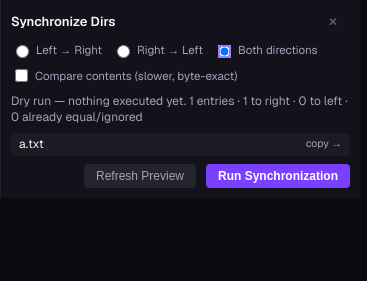
it: SyncPanel › direction radios regenerate the preview; stale banner shows
Click the radio button labelled "Right → Left": (124, 52) [117,45,130,58]
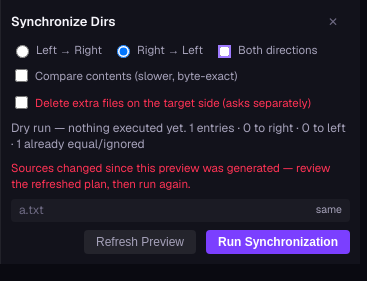
Expected: the text "1 already equal" is shown, [11,120,346,152]
Expected: the text "Sources changed since this preview" is shown, [11,160,330,191]
